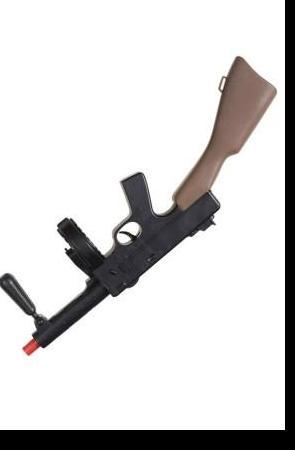larga: (0, 54, 277, 356)
